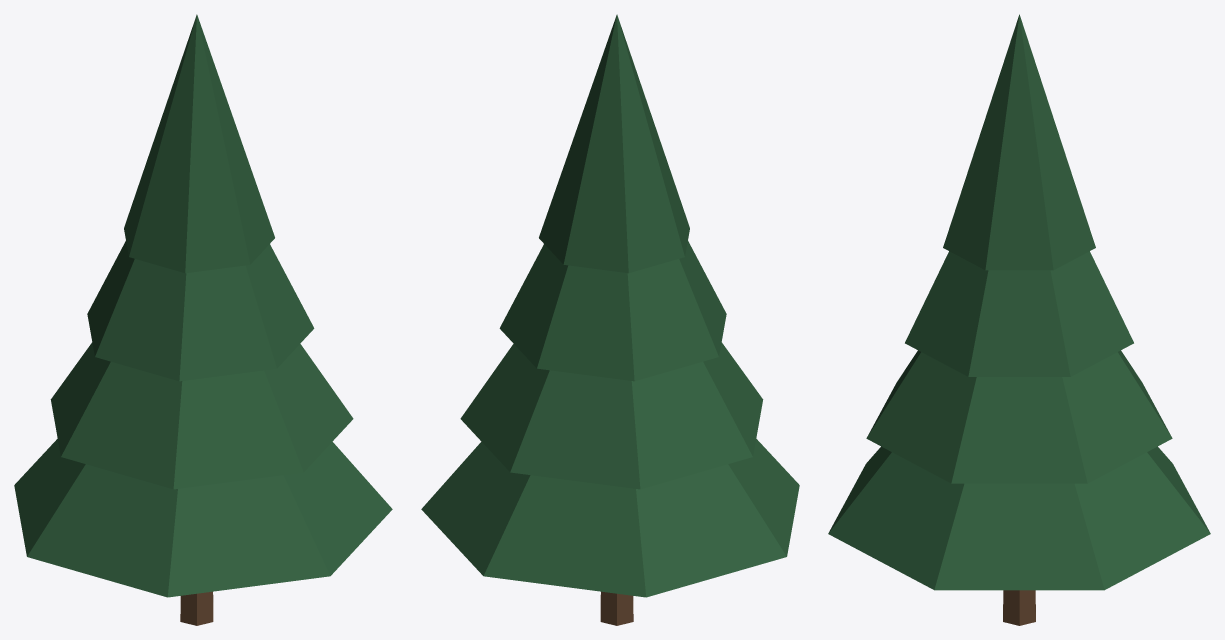
Rendered from Pine.obj.
3 views of the same model, side by side, from view 1: azimuth 30°, elevation 25°; view 2: azimuth 150°, elevation 25°; view 3: azimuth 270°, elevation 25° (orthographic).
Parts seen in each view (by area): view 1: Pine; view 2: Pine; view 3: Pine.
Part boxes in pixels (left/top/right/bottom): Pine: left=14, top=14, right=392, bottom=625; Pine: left=421, top=14, right=799, bottom=625; Pine: left=828, top=14, right=1210, bottom=625.
Bounding box in the file's own units: 3.14 × 5.6 × 3.22.
